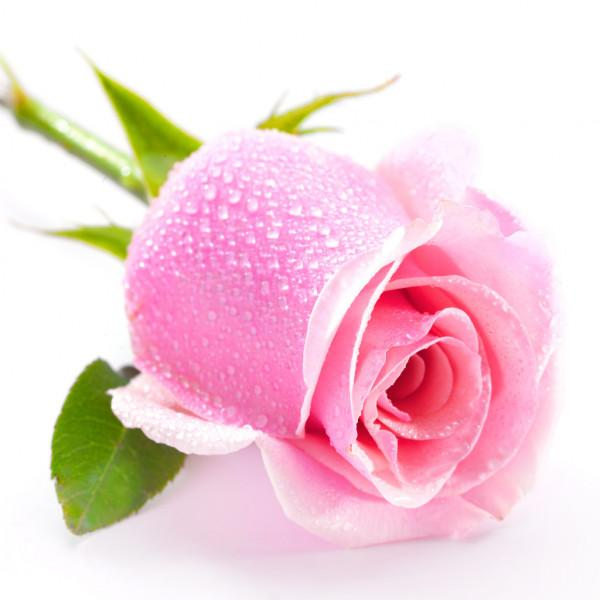Rose: (115, 73, 567, 587)
